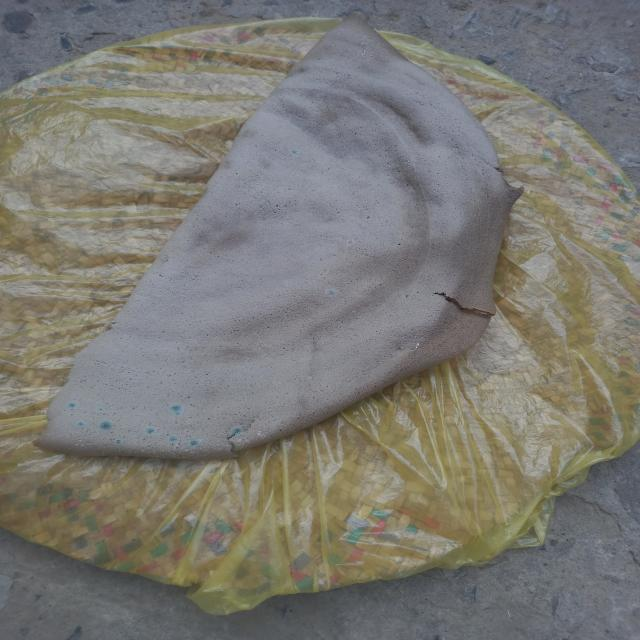injera_mold: (206, 444, 228, 456), (169, 444, 187, 455), (98, 420, 114, 430), (229, 427, 243, 437), (189, 450, 204, 458), (324, 289, 336, 298), (257, 430, 267, 440), (170, 404, 183, 411), (238, 438, 252, 444), (168, 436, 180, 442), (189, 440, 200, 446), (145, 428, 155, 434), (68, 402, 77, 408), (414, 342, 420, 350), (76, 421, 85, 426), (161, 448, 169, 453), (153, 449, 157, 458), (115, 440, 122, 445), (291, 150, 298, 154), (173, 412, 182, 415), (236, 446, 242, 450), (98, 407, 103, 411), (80, 444, 84, 447), (78, 439, 82, 442), (188, 420, 190, 424), (74, 443, 78, 445), (411, 349, 413, 352), (414, 336, 417, 338), (422, 336, 424, 338), (364, 50, 366, 52), (357, 54, 359, 56), (361, 42, 363, 44), (401, 347, 403, 348), (402, 337, 404, 338), (362, 54, 364, 55), (353, 53, 355, 54), (370, 55, 372, 56), (372, 52, 374, 53)
